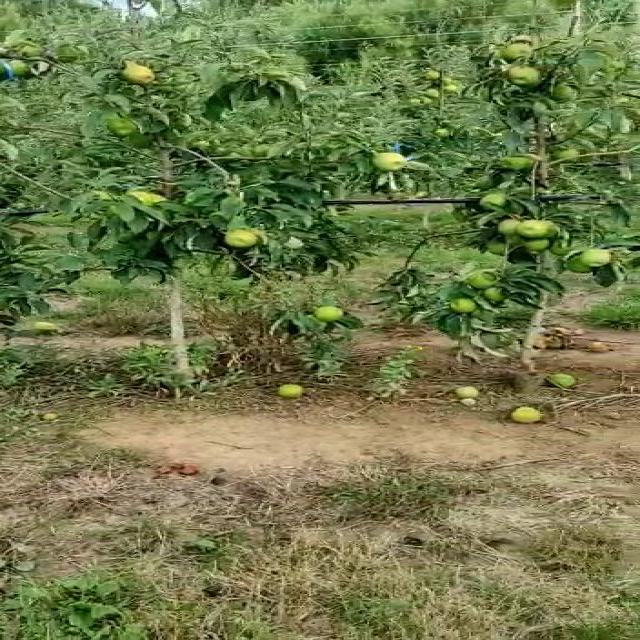100-_ripeness: (118, 63, 156, 84), (373, 152, 405, 173), (227, 232, 260, 249), (489, 239, 518, 258), (509, 69, 542, 85), (518, 220, 549, 237), (580, 250, 607, 269), (549, 84, 578, 101), (136, 191, 168, 206), (525, 234, 553, 250), (2, 60, 33, 74), (482, 286, 509, 302), (314, 307, 344, 321), (506, 45, 536, 59), (500, 218, 527, 233), (551, 148, 578, 162), (500, 156, 525, 170), (482, 196, 507, 210), (111, 121, 134, 136), (449, 299, 475, 312), (471, 274, 493, 288)
